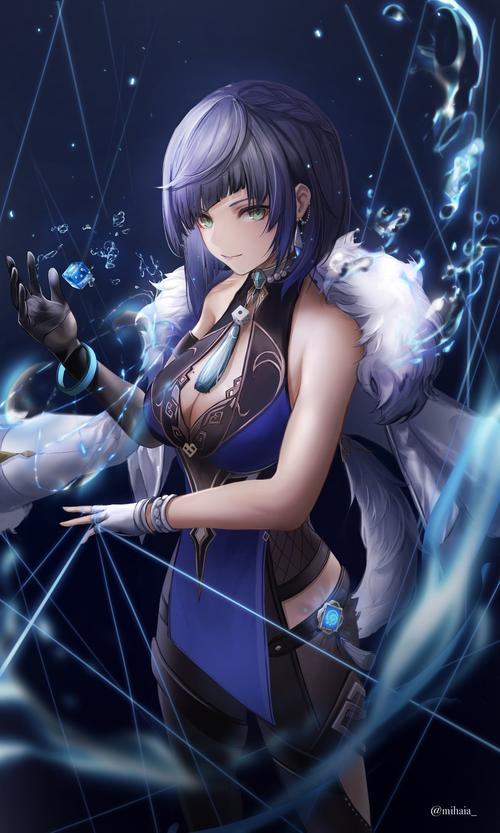夜兰: (6, 76, 370, 833)
